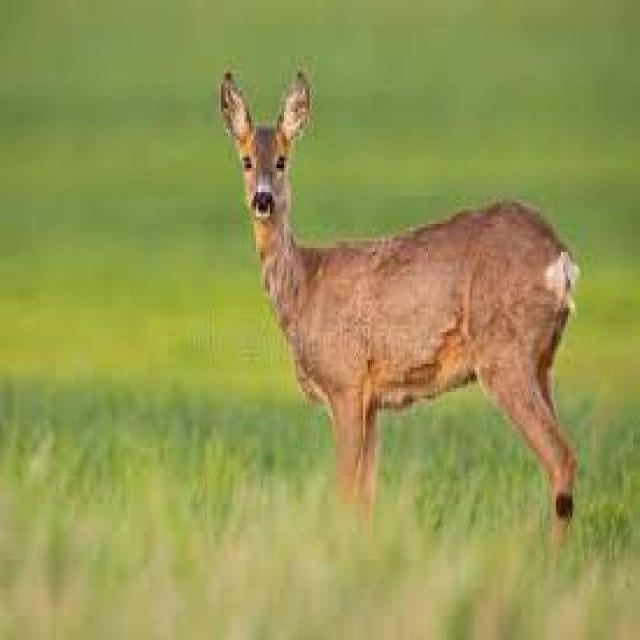deer: (205, 54, 594, 543)
